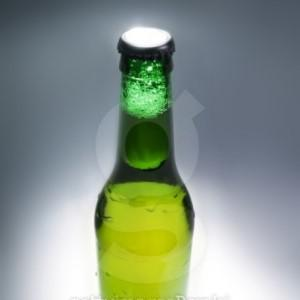beer: (91, 27, 197, 300)
